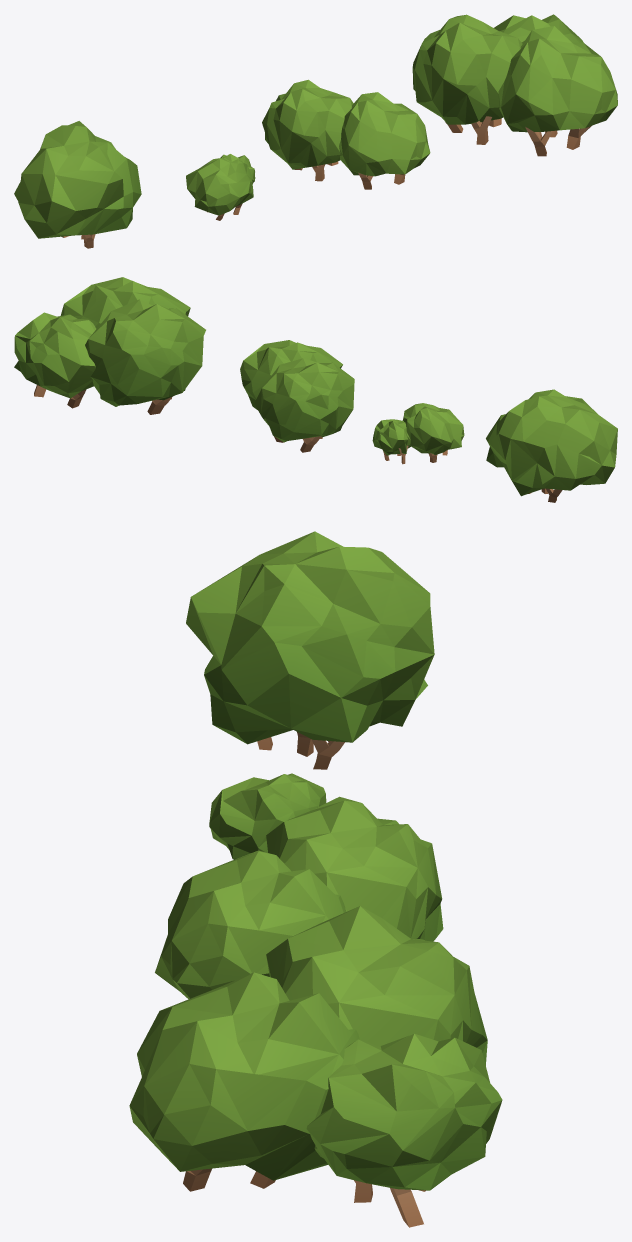
The model's file is Bushes.fbx.
3 views of the same model, one above another, from view 1: azimuth 30°, elevation 25°; view 2: azimuth 150°, elevation 25°; view 3: azimuth 270°, elevation 25° (orthographic). The views are drawn at different scales.
Visible parts, largest first — view 1: Bush_group_big, Bush_group_average, Bush_average, Bush_group_small; view 2: Bush_group_big, Bush_average, Bush_group_average, Bush_group_small; view 3: Bush_group_big, Bush_average, Bush_group_average, Bush_group_small.
Part boxes in pixels (x1,y1,x2,y2): Bush_group_big: (412,14,617,156); Bush_group_average: (262,79,430,189); Bush_average: (14,121,141,248); Bush_group_small: (186,154,255,220); Bush_group_big: (14,277,205,414); Bush_average: (486,389,617,502); Bush_group_average: (240,340,354,452); Bush_group_small: (372,403,464,464); Bush_group_big: (129,906,502,1227); Bush_average: (186,531,434,769); Bush_group_average: (155,796,443,999); Bush_group_small: (209,773,326,859).
Size of the model in its own units: 2363 by 425 by 672.
1 material, 1 textured.
